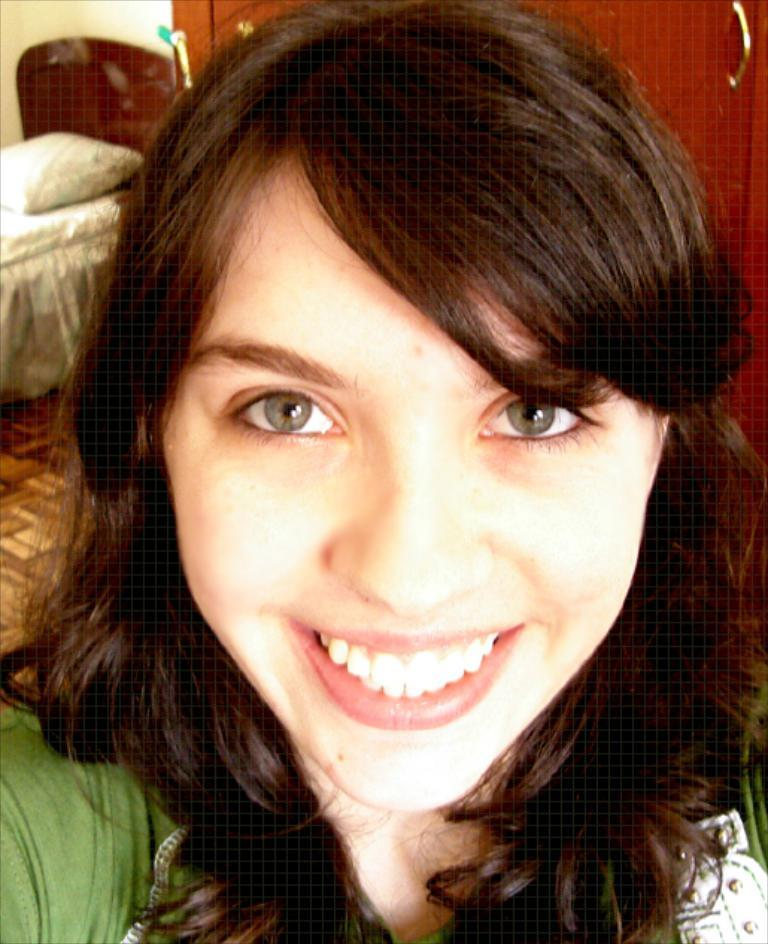Sem Máscara: (161, 151, 657, 819)
